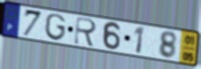1: (131, 25, 146, 55)
6: (102, 20, 122, 52)
7: (21, 8, 44, 37)
8: (158, 30, 179, 61)
G: (44, 13, 67, 42)
R: (73, 15, 99, 49)
